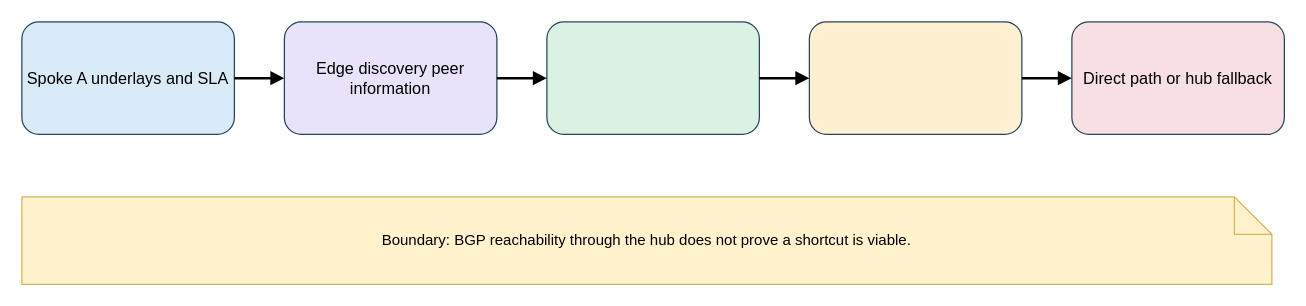
Image size: 1306x306. Some labels were removed from this diagram. The centre of each missing label's shape, as x and y in pixels:
"Path manager both-side criteria" belongs at (x=652, y=77).
"Shortcut IKE negotiation" belongs at (x=915, y=77).
